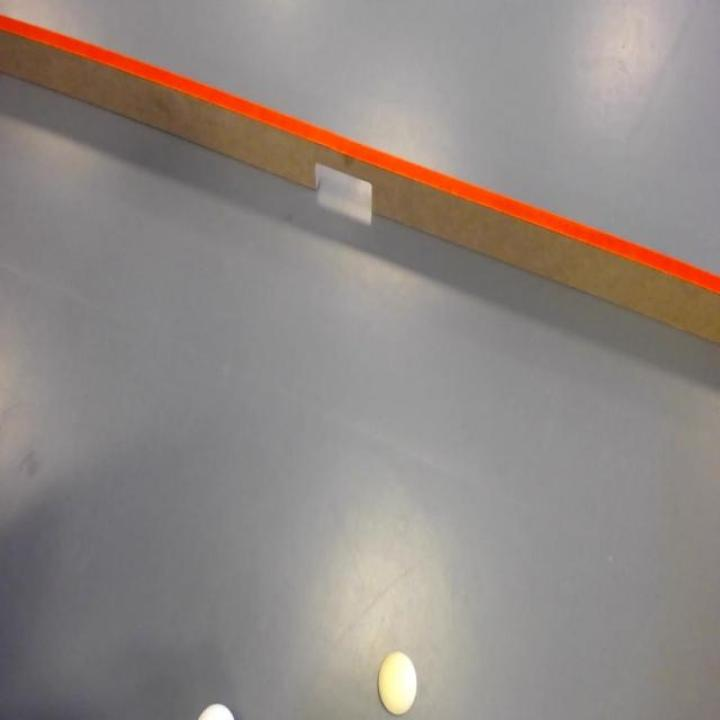white: (376, 651, 420, 718), (197, 703, 235, 720)
